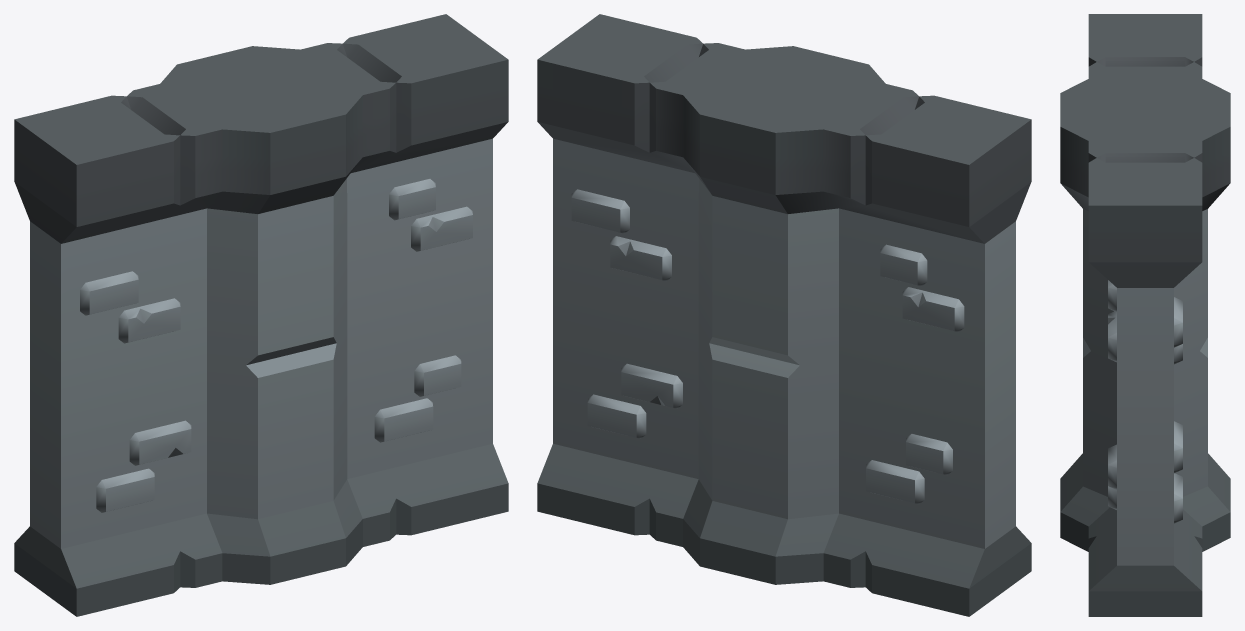
File: b_donjon_mur_pilier.glb
The picture shows the model from 3 angles, left to right: view 1: azimuth 30°, elevation 25°; view 2: azimuth 150°, elevation 25°; view 3: azimuth 270°, elevation 25°; orthographic projection. The views are drawn at different scales.
Parts seen in each view (by area): view 1: b_donjon_mur_pilier; view 2: b_donjon_mur_pilier; view 3: b_donjon_mur_pilier.
Part boxes in pixels (box(x1,y1,x2,y2)): b_donjon_mur_pilier: box(14, 14, 508, 616); b_donjon_mur_pilier: box(537, 14, 1031, 616); b_donjon_mur_pilier: box(1060, 14, 1230, 616).
Size of the model in its own units: 4 by 4 by 1.5.
Materials: 1 (1 with a texture image).
